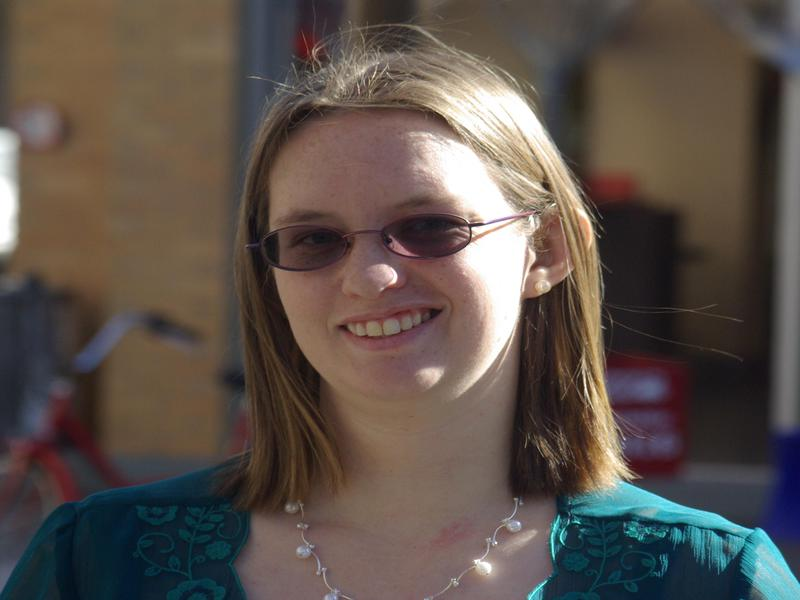person: (24, 45, 797, 600)
